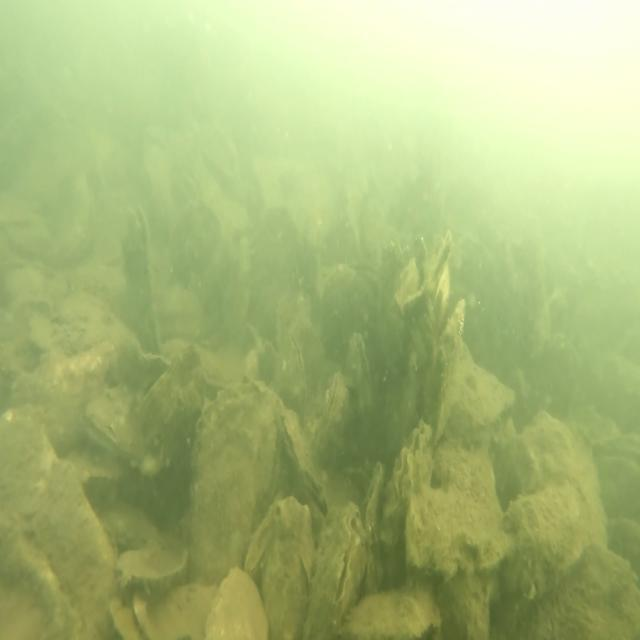Oyster-Closed: (302, 500, 366, 640), (136, 343, 206, 457), (381, 420, 434, 551), (276, 403, 335, 515), (361, 461, 386, 590), (284, 328, 309, 415), (321, 370, 348, 438)
Oyster-Indeterminate: (0, 406, 117, 640), (185, 381, 288, 583), (508, 409, 610, 559), (525, 547, 640, 640), (406, 485, 507, 588), (245, 499, 314, 640), (501, 488, 586, 600), (129, 581, 219, 640), (213, 564, 269, 640), (113, 542, 188, 588)
Oyster-Open: (121, 204, 166, 358), (426, 266, 466, 439), (454, 358, 516, 446), (82, 382, 141, 463), (347, 331, 376, 425)
